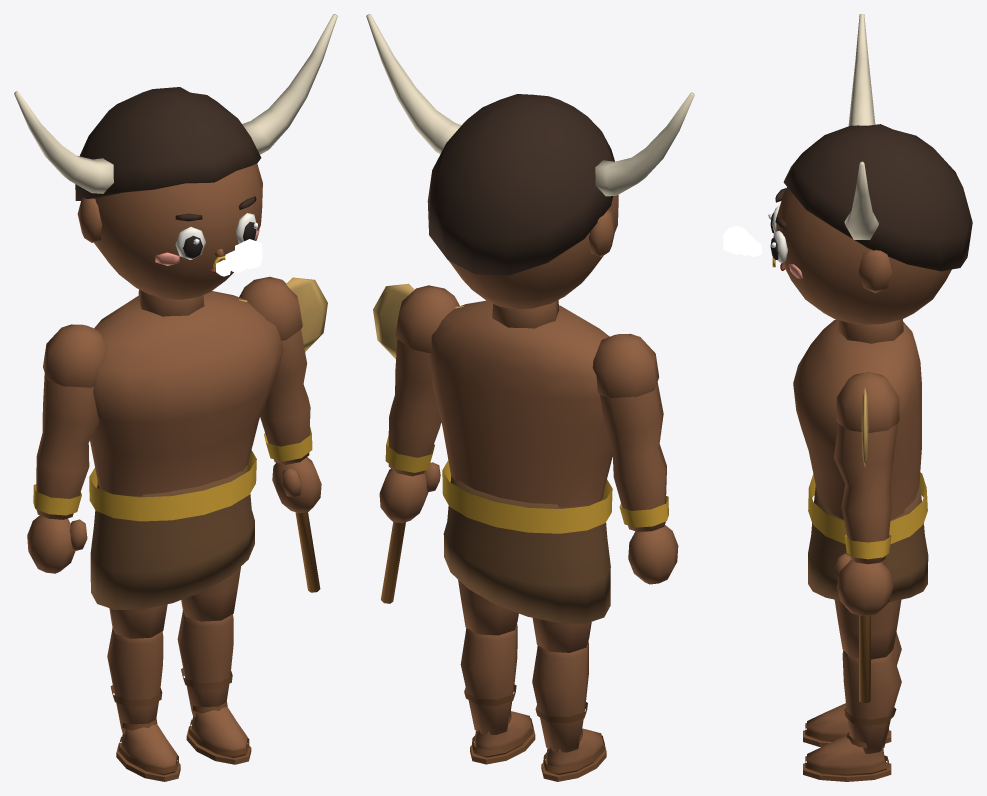
Rendered from minotauros.glb.
The picture shows the model from 3 angles, left to right: view 1: azimuth 30°, elevation 25°; view 2: azimuth 150°, elevation 25°; view 3: azimuth 270°, elevation 25°; orthographic projection. The views are drawn at different scales.
Visible parts, largest first — view 1: rumpf, kopf, huefte, haare, armL, armR, knieL, knieR, kopfschmuck, itemR, beinR, beinL (+2 smaller); view 2: rumpf, haare, huefte, armL, armR, kopf, knieR, knieL, kopfschmuck, itemR, beinR, beinL; view 3: haare, rumpf, kopf, armR, knieR, huefte, kopfschmuck, beinR, knieL, itemR, vfx_dampf.
Boxes of the visible parts, x1,y1,x2,y2 form: rumpf: [89, 291, 283, 521]; kopf: [77, 163, 262, 316]; huefte: [90, 465, 254, 609]; haare: [75, 87, 261, 200]; armL: [27, 324, 106, 573]; armR: [239, 276, 321, 513]; knieL: [107, 627, 180, 781]; knieR: [177, 610, 251, 764]; kopfschmuck: [14, 14, 337, 193]; itemR: [239, 277, 327, 592]; beinR: [181, 567, 240, 621]; beinL: [109, 604, 167, 638]; rumpf: [430, 300, 612, 533]; haare: [427, 94, 614, 275]; huefte: [443, 476, 610, 623]; armL: [592, 334, 678, 584]; armR: [379, 285, 459, 523]; kopf: [449, 195, 618, 328]; knieR: [460, 624, 535, 764]; knieL: [532, 641, 606, 781]; kopfschmuck: [366, 14, 694, 196]; itemR: [373, 283, 463, 603]; beinR: [458, 579, 518, 635]; beinL: [532, 618, 591, 652]; haare: [783, 124, 972, 271]; rumpf: [793, 319, 927, 544]; kopf: [776, 187, 951, 343]; armR: [834, 371, 899, 615]; knieR: [803, 650, 901, 781]; huefte: [808, 484, 928, 601]; kopfschmuck: [844, 14, 878, 239]; beinR: [834, 599, 901, 659]; knieL: [803, 632, 901, 746]; itemR: [859, 371, 870, 702]; vfx_dampf: [723, 226, 761, 256].
Size of the model in its own units: 1.19 by 2.46 by 0.8332.
